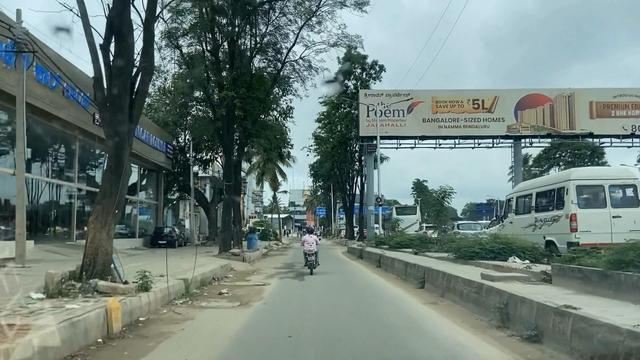RoadDamages: (187, 291, 257, 315)
